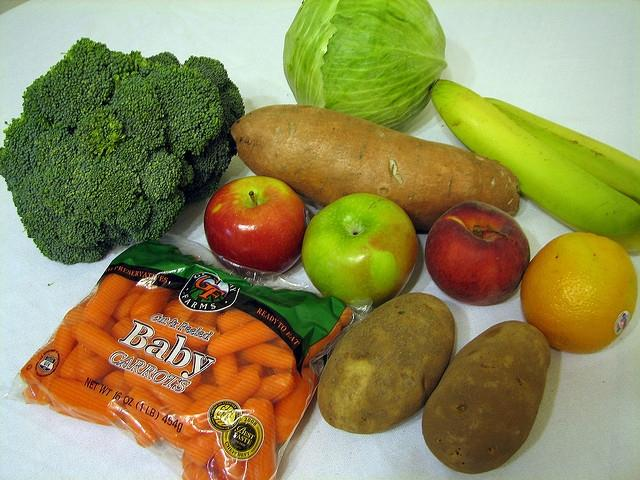apple: (301, 192, 419, 308), (204, 176, 310, 274)
banana: (430, 79, 640, 251), (483, 98, 640, 204)
broccoli: (0, 38, 246, 264)
carrot: (175, 370, 261, 437), (126, 386, 192, 450), (50, 377, 126, 426), (59, 316, 117, 380), (274, 369, 318, 444), (71, 322, 137, 367), (83, 273, 134, 330), (242, 397, 276, 480), (132, 317, 220, 348), (208, 320, 280, 357), (138, 348, 202, 386), (130, 284, 174, 326), (234, 342, 296, 369), (148, 384, 194, 420), (111, 281, 152, 321), (20, 340, 54, 386), (121, 409, 159, 447), (250, 372, 294, 404), (184, 428, 221, 466), (214, 438, 246, 480), (308, 321, 342, 360), (188, 312, 219, 353), (75, 356, 120, 382), (50, 324, 74, 370), (216, 309, 258, 335), (182, 451, 219, 474), (212, 354, 238, 386), (64, 298, 91, 328), (163, 299, 197, 322), (103, 370, 131, 395), (111, 317, 135, 340), (190, 383, 218, 402), (182, 463, 210, 480), (264, 336, 292, 350), (22, 383, 40, 404), (239, 363, 264, 378), (339, 307, 352, 327)
lettuce: (282, 0, 448, 131)
orange: (521, 232, 639, 355)
potato: (230, 104, 520, 232)
